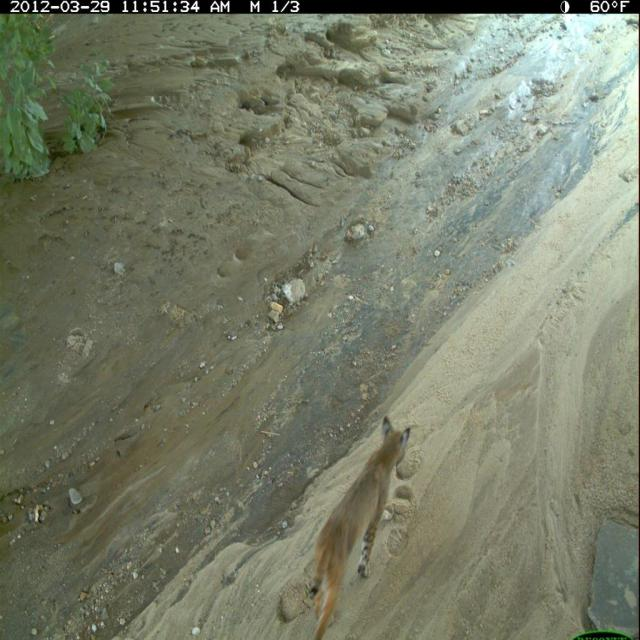bobcat: (305, 412, 429, 640)
